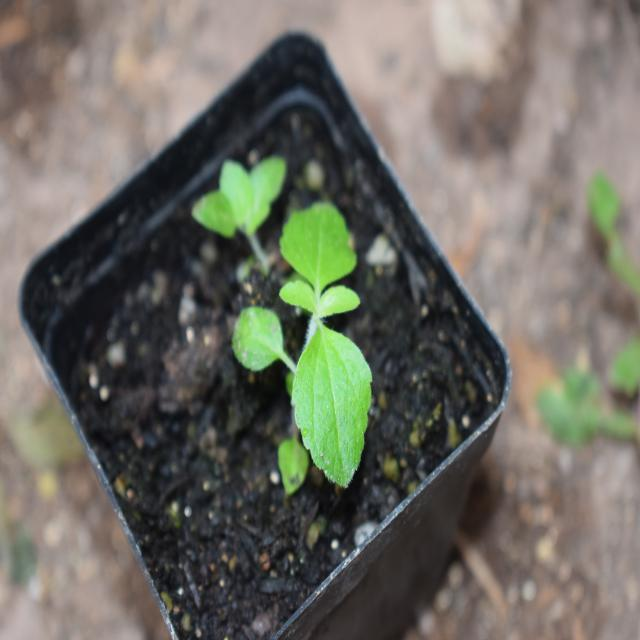billygoat_weed: (239, 203, 394, 469)
